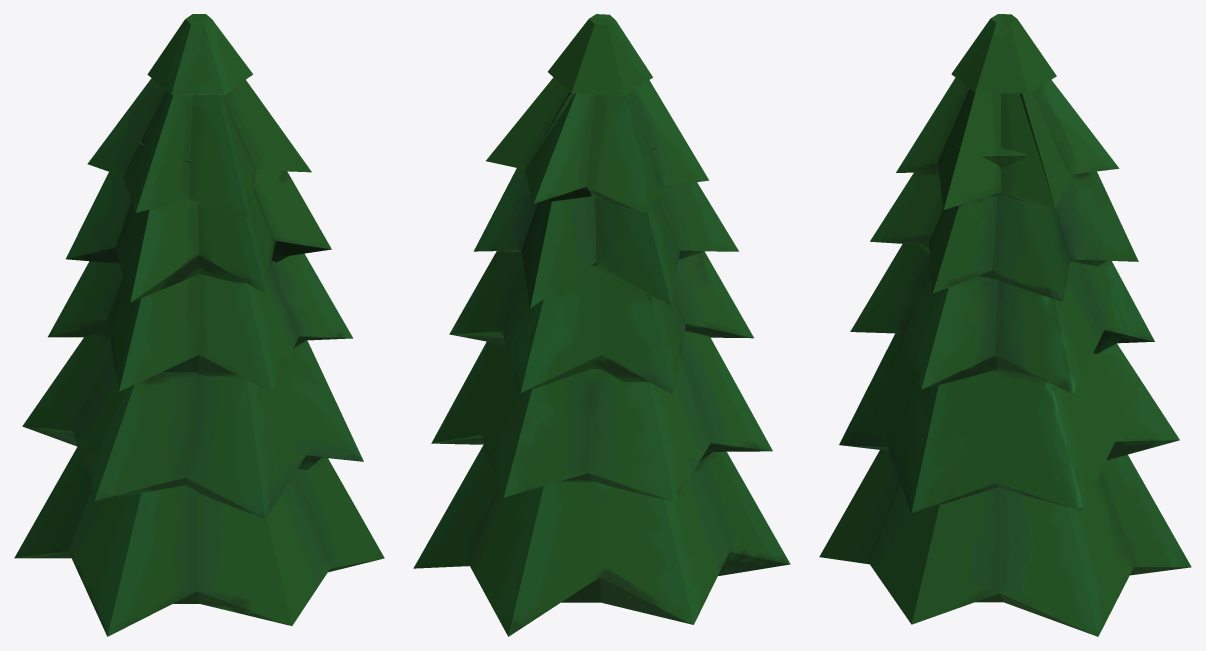
File: tree_with_material.fbx
3 views of the same model, side by side, from view 1: azimuth 30°, elevation 25°; view 2: azimuth 150°, elevation 25°; view 3: azimuth 270°, elevation 25° (orthographic).
Visible parts, largest first — view 1: Cylinder.006; view 2: Cylinder.006; view 3: Cylinder.006.
Part boxes in pixels (bbox=[...]): Cylinder.006: bbox=[14, 14, 384, 636]; Cylinder.006: bbox=[413, 14, 790, 636]; Cylinder.006: bbox=[819, 14, 1191, 636].
Bounding box in the file's own units: 338 × 630 × 387.
Materials: 1 (1 with a texture image).
